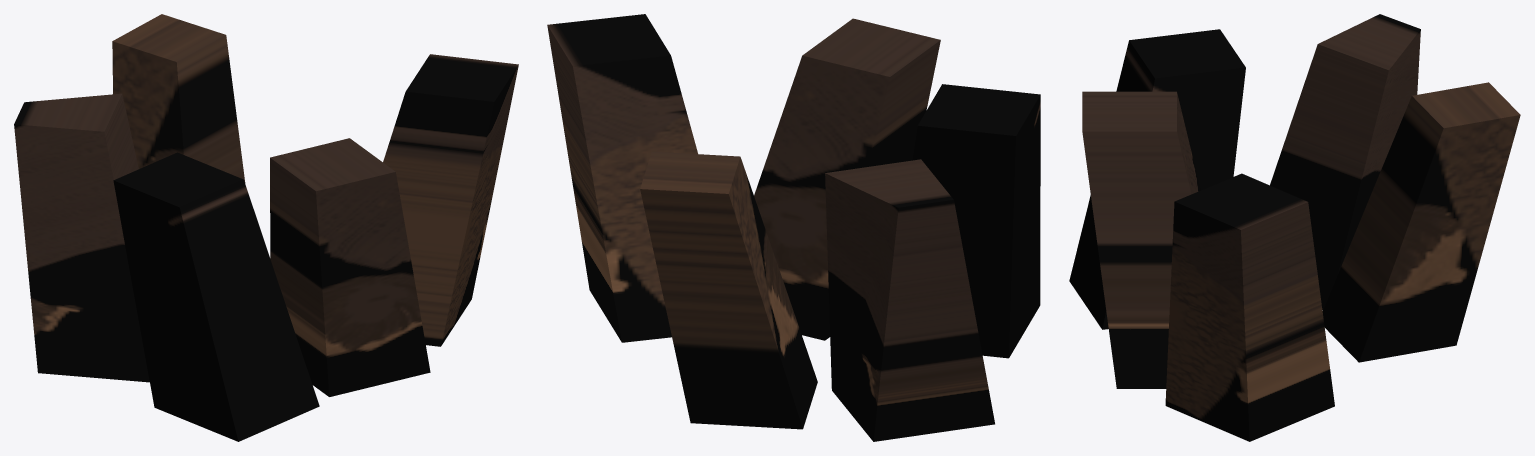
File: DeadGrass_3.fbx
The picture shows the model from 3 angles, left to right: view 1: azimuth 30°, elevation 25°; view 2: azimuth 150°, elevation 25°; view 3: azimuth 270°, elevation 25°; orthographic projection. The views are drawn at different scales.
Parts seen in each view (by area): view 1: DeadGrass_3; view 2: DeadGrass_3; view 3: DeadGrass_3.
Part boxes in pixels (x1=…): DeadGrass_3: x1=14, y1=14, x2=518, y2=441; DeadGrass_3: x1=547, y1=14, x2=1040, y2=441; DeadGrass_3: x1=1069, y1=14, x2=1520, y2=441.
Size of the model in its own units: 48.68 by 24.31 by 41.78.
